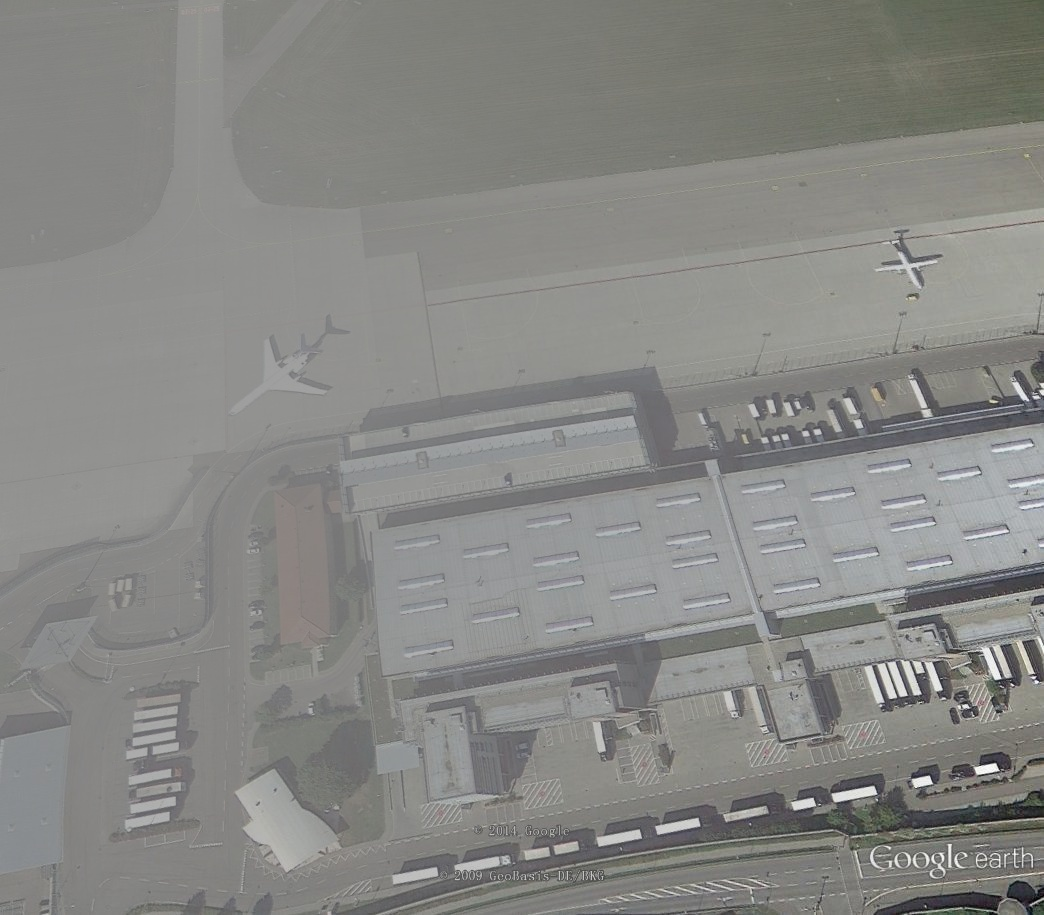aircraft: (226, 336, 334, 418), (874, 238, 945, 294)
